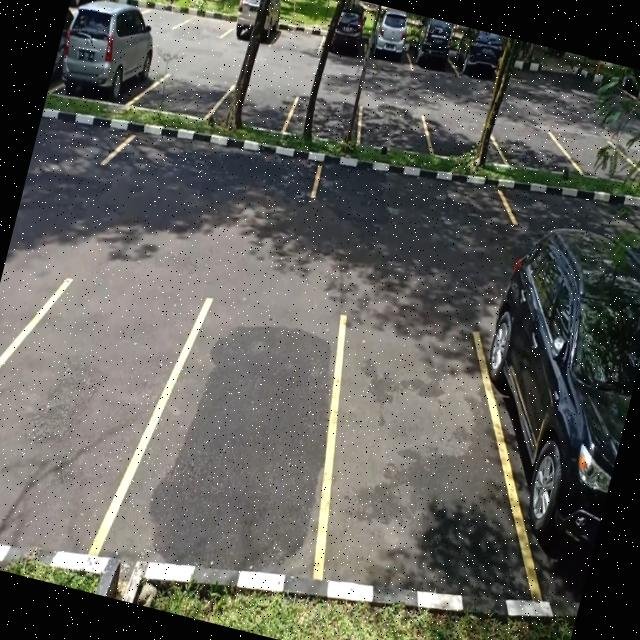empty: (123, 278, 362, 586), (300, 291, 520, 602), (0, 257, 184, 564), (102, 115, 322, 219), (308, 148, 513, 256), (134, 60, 226, 128), (212, 73, 298, 138), (283, 89, 366, 152), (354, 94, 435, 158), (424, 108, 502, 170), (492, 116, 568, 174), (270, 14, 327, 58), (179, 4, 231, 42)
occupied: (464, 302, 640, 598), (51, 2, 156, 114), (318, 12, 370, 66), (226, 0, 283, 49), (362, 23, 415, 72), (407, 29, 458, 79)
